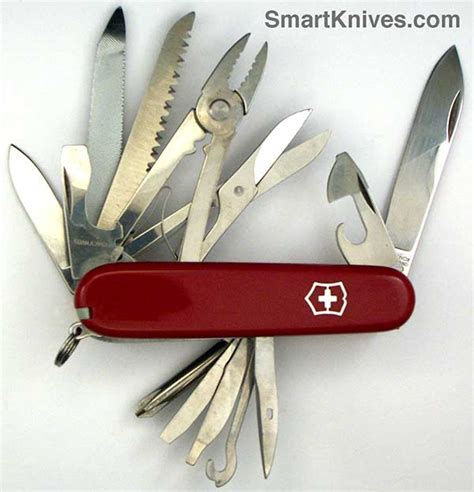knife: (155, 30, 270, 262), (164, 107, 333, 264), (96, 11, 196, 260), (385, 44, 466, 278), (8, 145, 96, 299), (83, 6, 126, 260), (326, 148, 404, 271), (60, 139, 126, 280), (184, 337, 253, 463), (160, 340, 241, 444), (203, 338, 255, 487), (255, 334, 286, 475)
